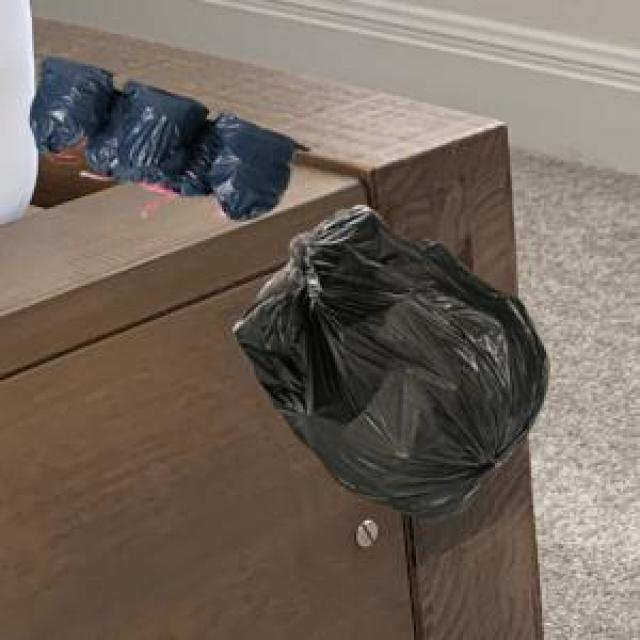miscellaneous trash: (230, 201, 544, 518), (26, 53, 304, 216)
